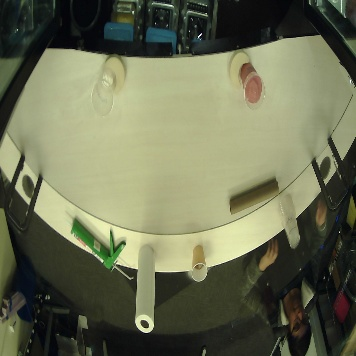coffee_cup: (190, 245, 209, 282)
empty_cup: (278, 195, 302, 249), (92, 68, 116, 116)
full_cup: (239, 62, 266, 110)
puck: (103, 54, 126, 93), (227, 50, 250, 89)
